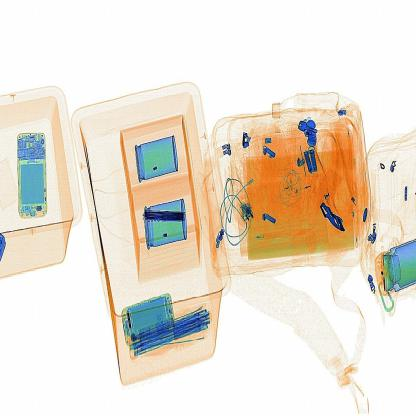scissors: (139, 199, 191, 229)
